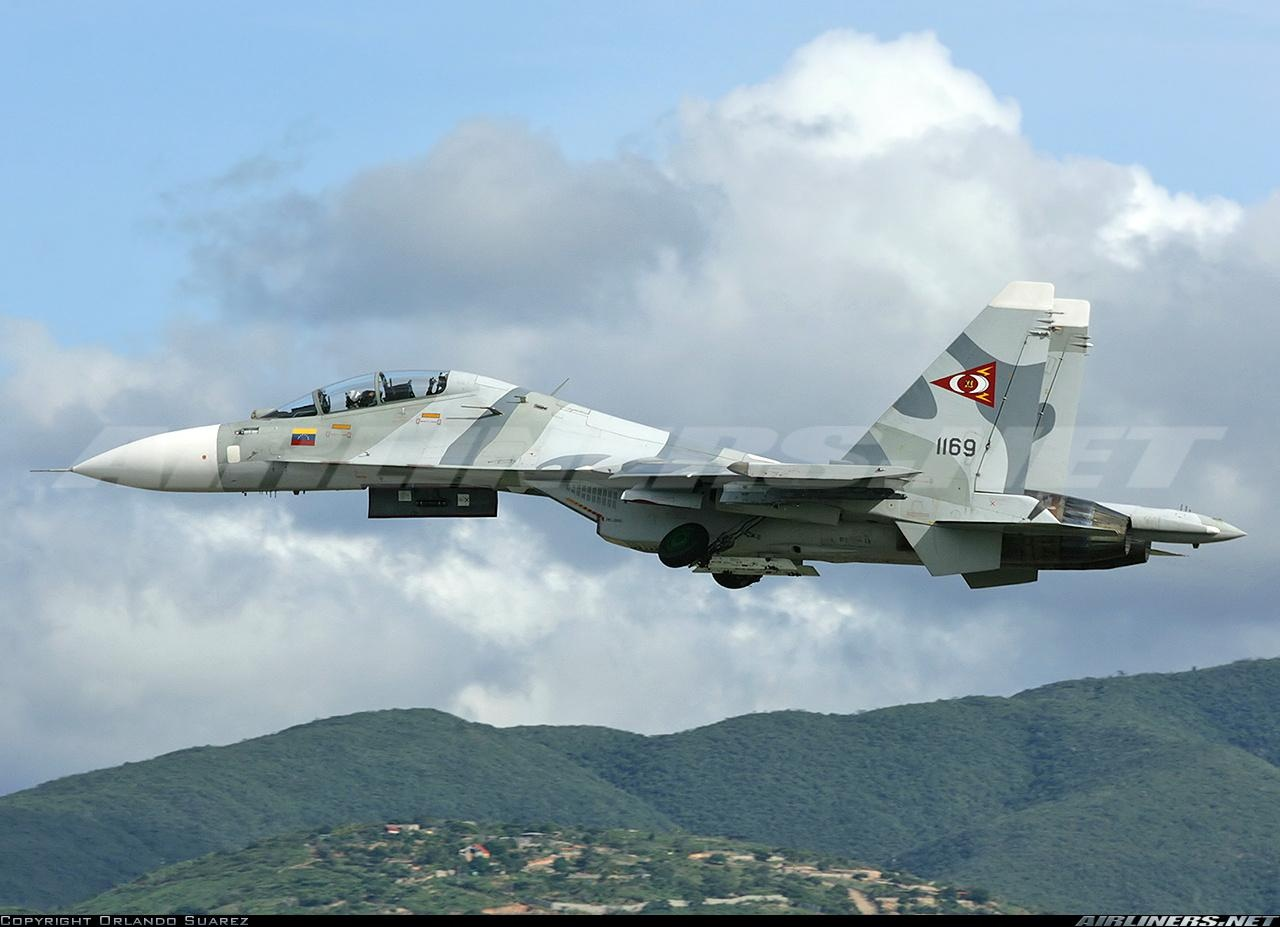aircraft: (45, 280, 1252, 594)
